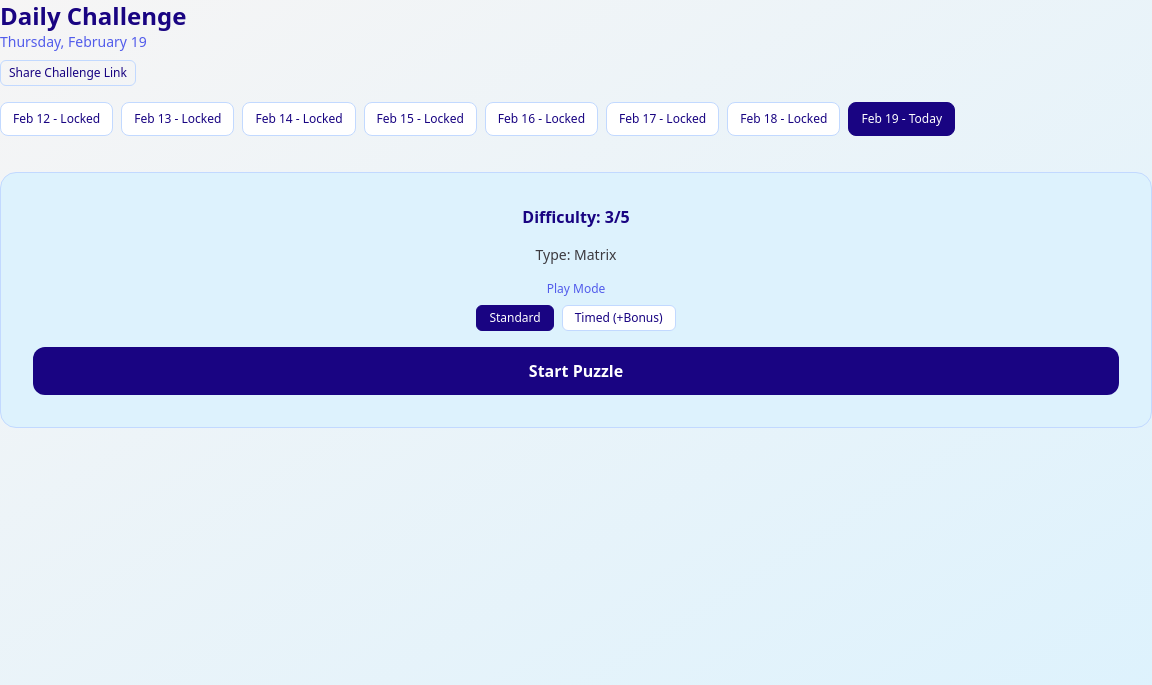
Scenario: PuzzleView › renders matrix puzzle content after start
The image size is (1152, 685).
What coordinates should you click on to do the following:
click the button "Start Puzzle"
I would click on:
 (576, 371)
Its box is [33,347,1119,395].
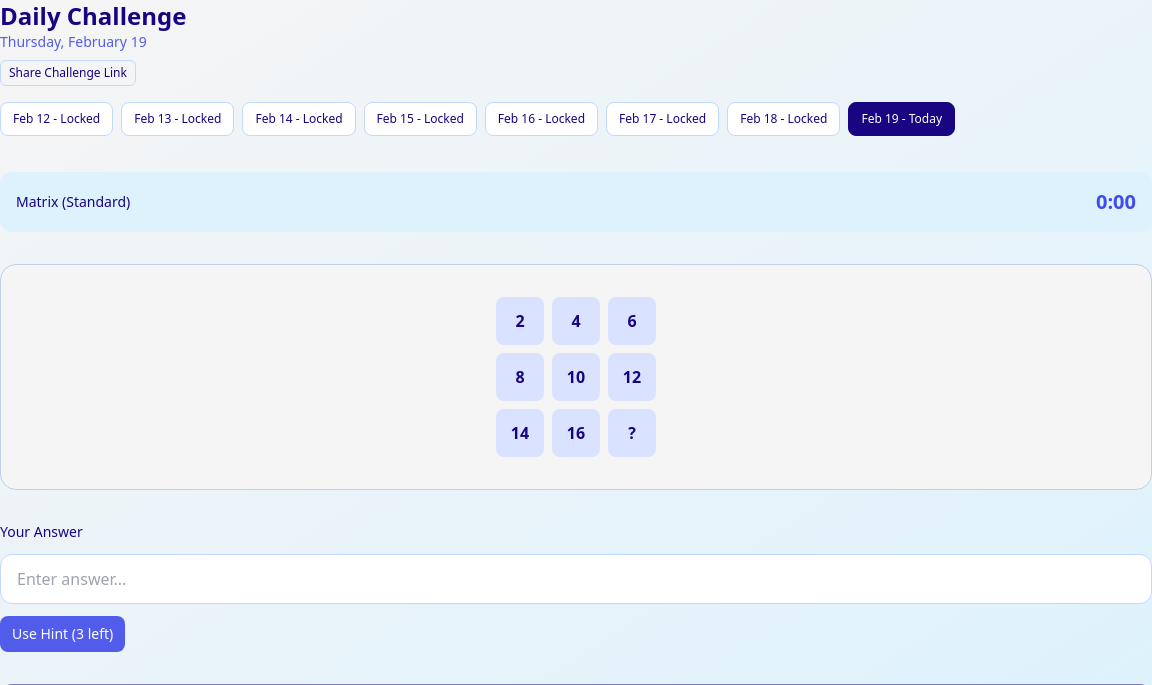
Expected: the text "16" is shown, [552,409,600,457]
Expected: the text "?" is shown, [608,409,656,457]
